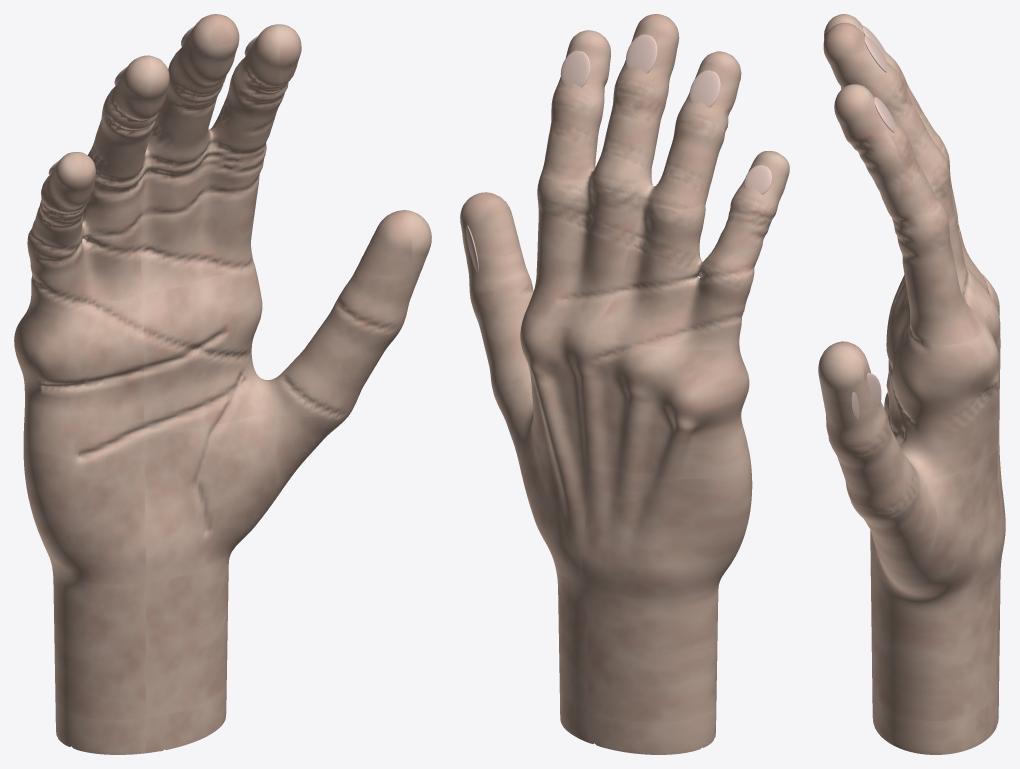
File: hand.glb
The picture shows the model from 3 angles, left to right: view 1: azimuth 30°, elevation 25°; view 2: azimuth 150°, elevation 25°; view 3: azimuth 270°, elevation 25°; orthographic projection. The views are drawn at different scales.
Size of the model in its own units: 0.0761 by 0.1477 by 0.0355.
Materials: 2 (1 with a texture image).
